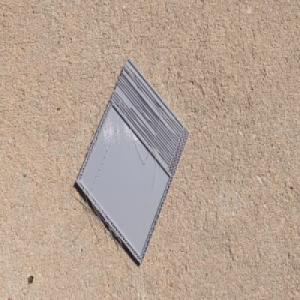PlasticPart: (73, 54, 191, 267)
